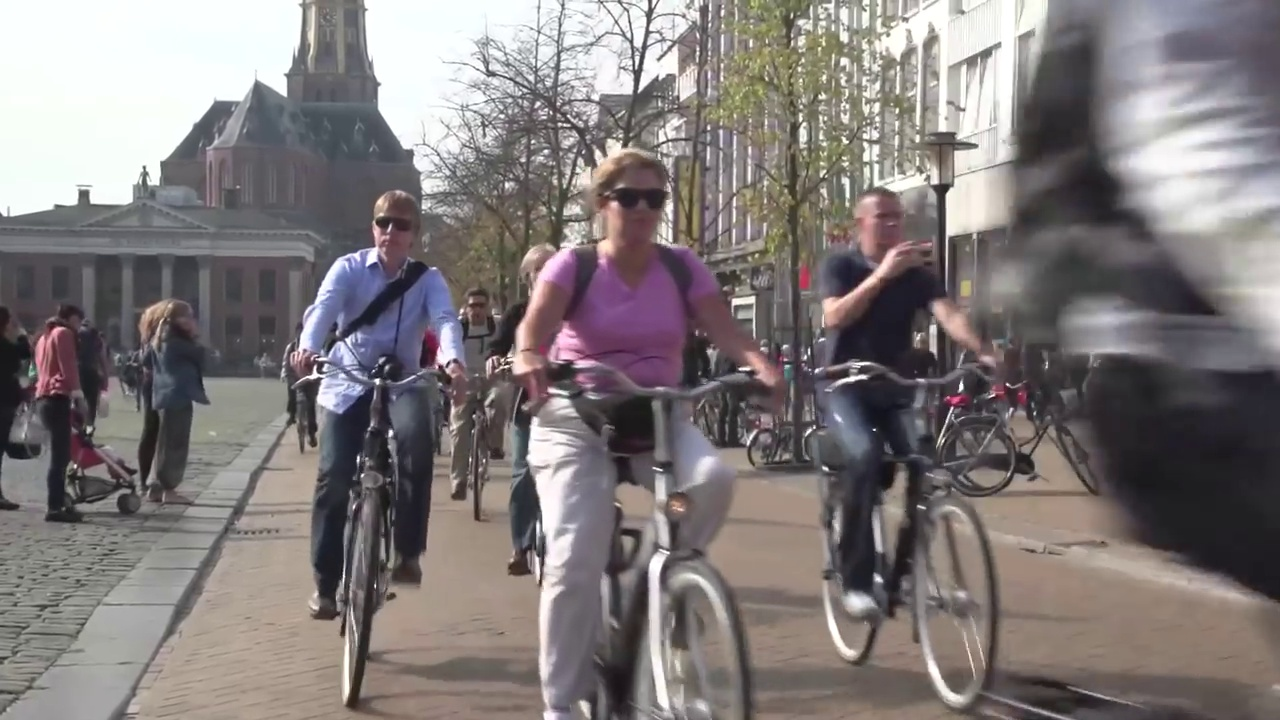cyclist_front: (505, 144, 758, 707), (803, 184, 1017, 713), (287, 189, 473, 707), (447, 280, 513, 530)
